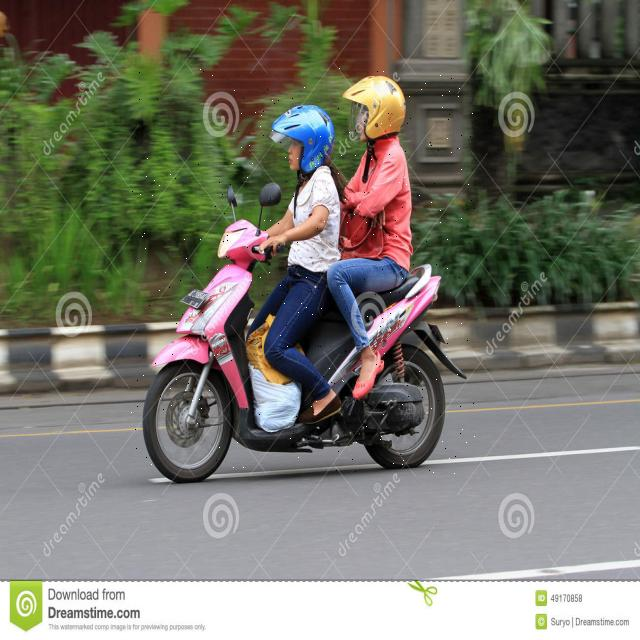With Helmet: (129, 68, 477, 477)
